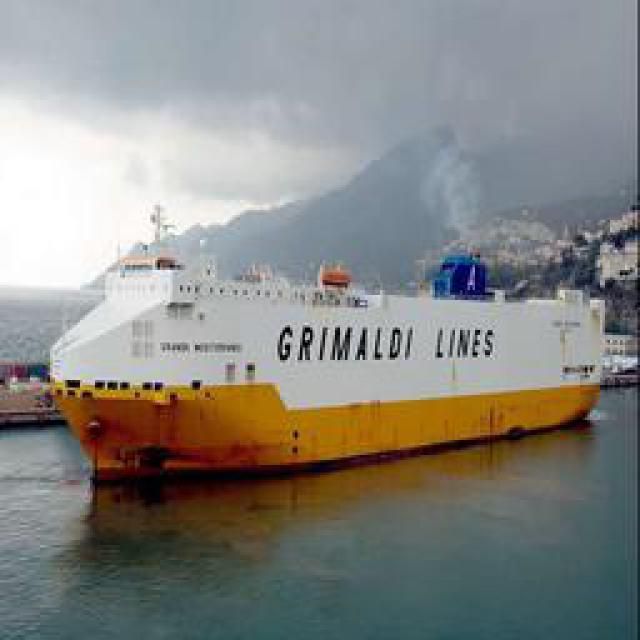Ship: (55, 205, 598, 488)
